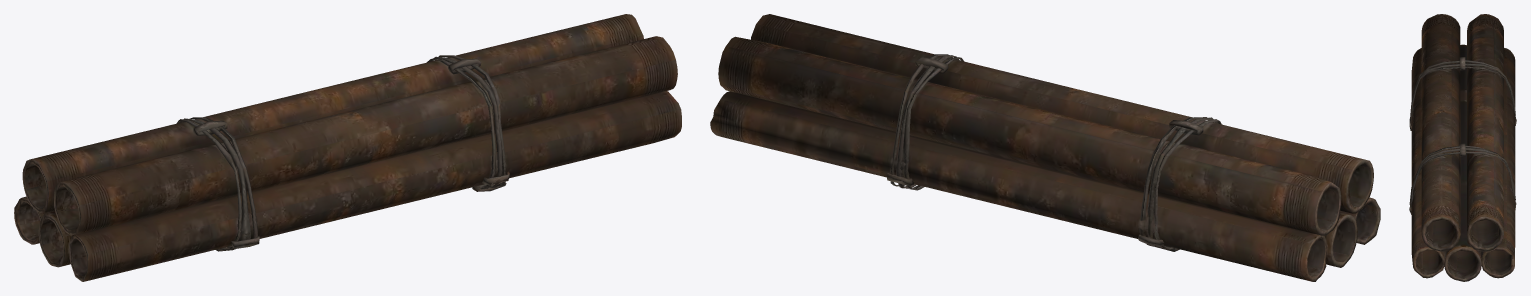
The model's file is salvage-industrial_pipes_bundle.glb.
The picture shows the model from 3 angles, left to right: view 1: azimuth 30°, elevation 25°; view 2: azimuth 150°, elevation 25°; view 3: azimuth 270°, elevation 25°; orthographic projection. The views are drawn at different scales.
Visible parts, largest first — view 1: Meshy_AI_industrial_pipes_bundle_3d_20261028_texture; view 2: Meshy_AI_industrial_pipes_bundle_3d_20261028_texture; view 3: Meshy_AI_industrial_pipes_bundle_3d_20261028_texture.
Boxes of the visible parts, <box> form: Meshy_AI_industrial_pipes_bundle_3d_20261028_texture: <box>14,14,681,281</box>; Meshy_AI_industrial_pipes_bundle_3d_20261028_texture: <box>710,14,1380,281</box>; Meshy_AI_industrial_pipes_bundle_3d_20261028_texture: <box>1409,14,1516,281</box>.
Size of the model in its own units: 4 by 0.7017 by 0.8975.
Materials: 1 (1 with a texture image).
